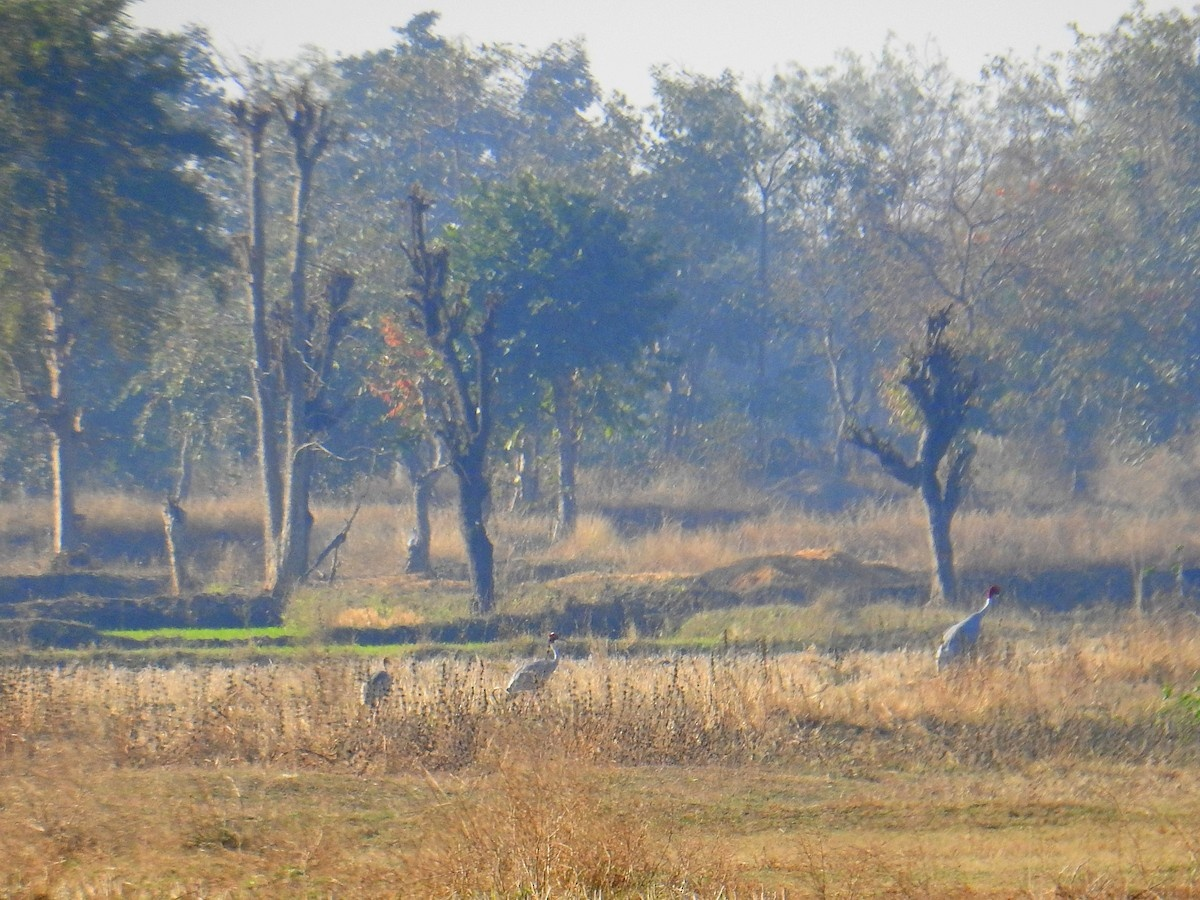crane: (936, 580, 1011, 681), (508, 627, 583, 710)
